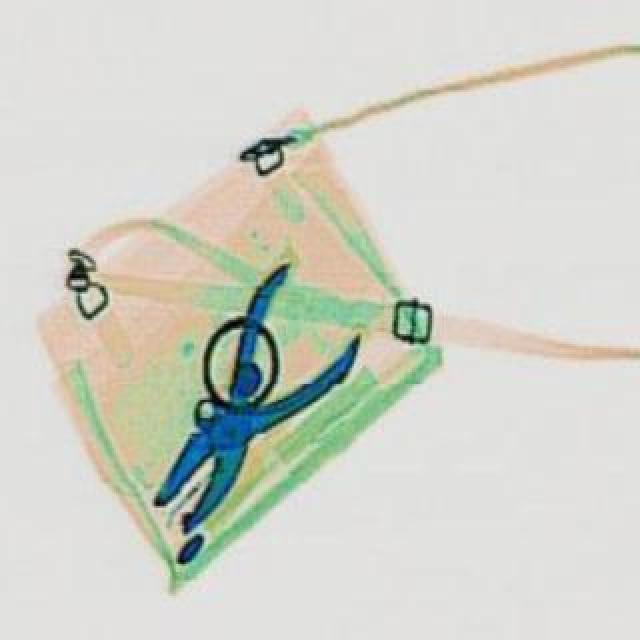wrench: (112, 262, 392, 562)
